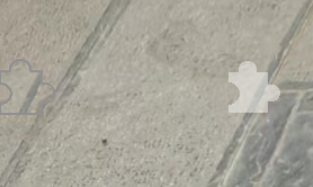target: (222, 55, 282, 119)
